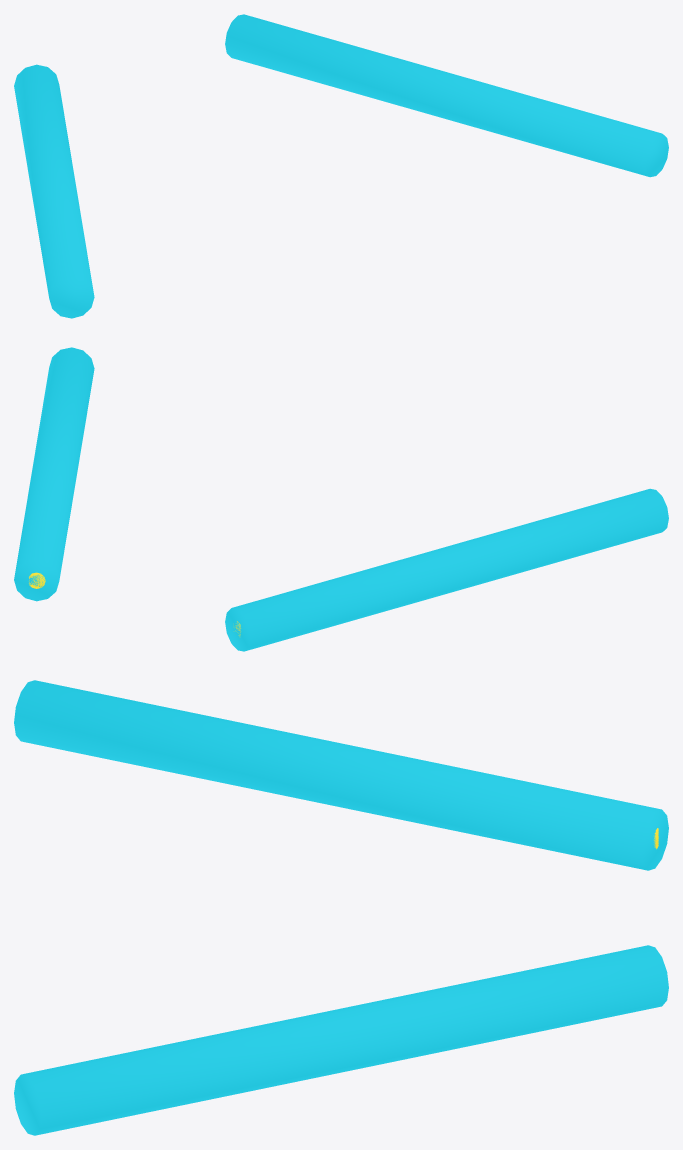
The model's file is trait-eyes-cyan-laser-skull.glb.
3 views of the same model, one above another, from view 1: azimuth 30°, elevation 25°; view 2: azimuth 150°, elevation 25°; view 3: azimuth 270°, elevation 25° (orthographic). The views are drawn at different scales.
Parts seen in each view (by area): view 1: trait_eye_beam_R, trait_eye_beam_L; view 2: trait_eye_beam_L, trait_eye_beam_R; view 3: trait_eye_beam_R, trait_eye_beam_L.
Part boxes in pixels (x1=…): trait_eye_beam_R: x1=225, y1=14, x2=668, y2=177; trait_eye_beam_L: x1=14, y1=64, x2=94, y2=318; trait_eye_beam_L: x1=225, y1=488, x2=668, y2=651; trait_eye_beam_R: x1=14, y1=347, x2=94, y2=601; trait_eye_beam_R: x1=14, y1=945, x2=668, y2=1135; trait_eye_beam_L: x1=14, y1=680, x2=668, y2=870.
Size of the model in its own units: 1.42 by 0.09 by 0.9382.
